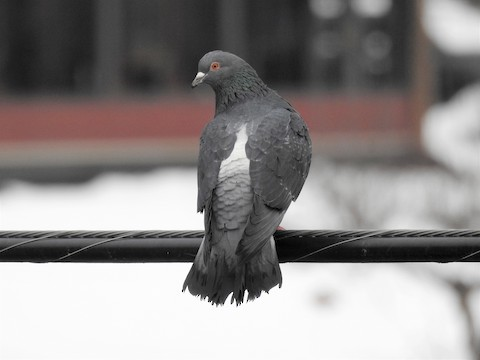pigeon: (185, 43, 316, 311)
